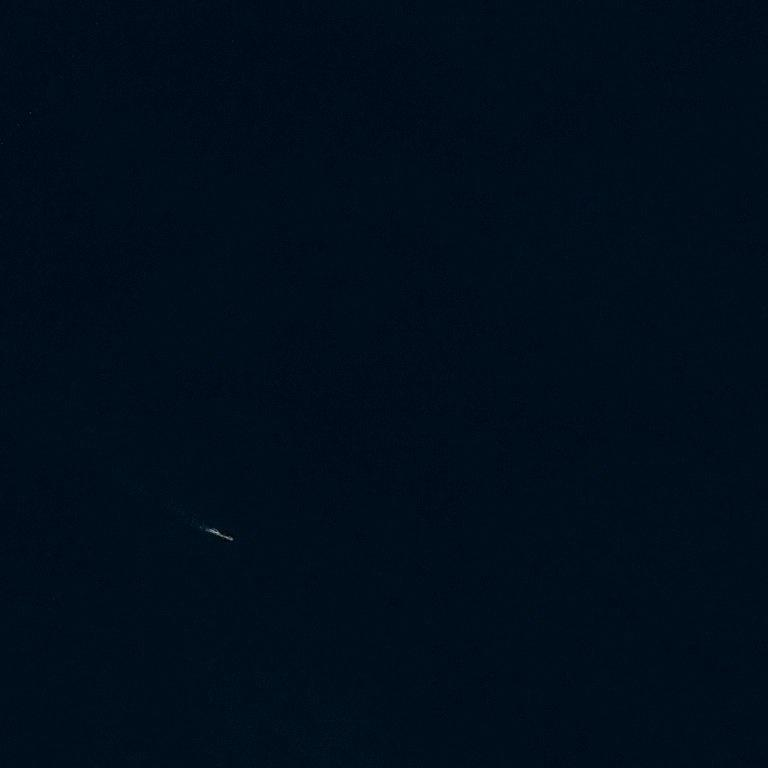ship: (215, 534, 235, 538), (230, 539, 234, 540), (219, 530, 221, 530), (62, 534, 62, 537)
